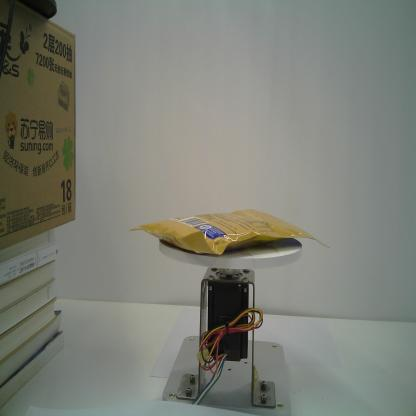Dried Fruit: (129, 207, 331, 256)
